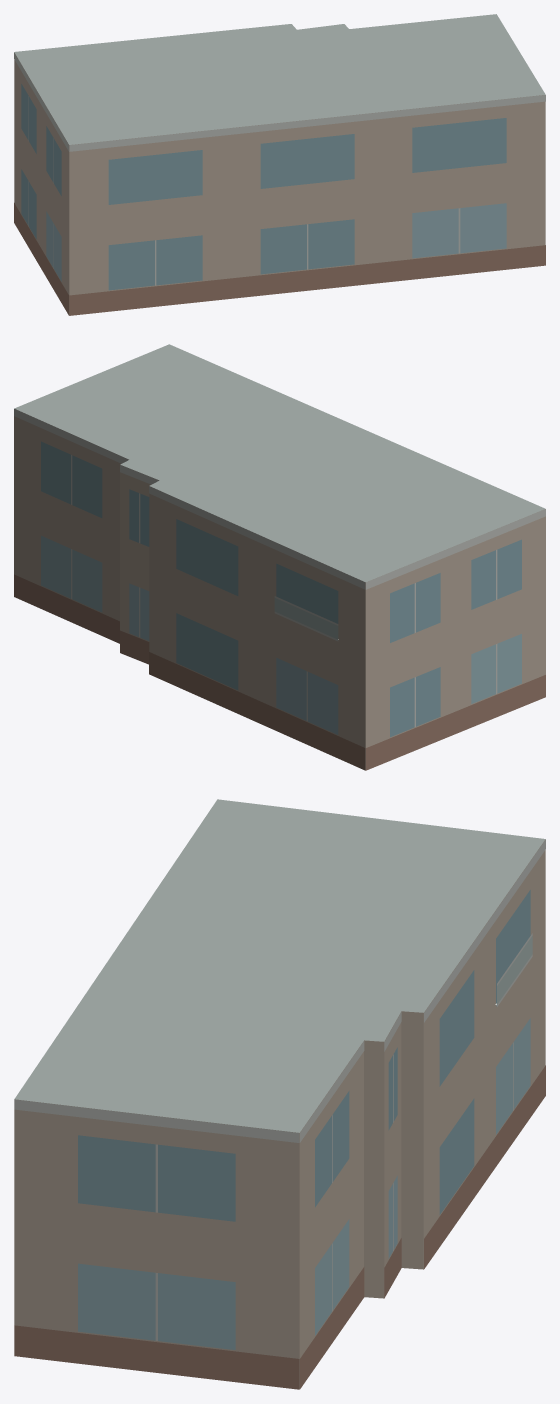
File: survey-upis-32577704.glb
3 views of the same model, one above another, from view 1: azimuth 30°, elevation 25°; view 2: azimuth 150°, elevation 25°; view 3: azimuth 270°, elevation 25° (orthographic). The views are drawn at different scales.
Visible parts, largest first — view 1: survey-upis-32577704.tmp; view 2: survey-upis-32577704.tmp; view 3: survey-upis-32577704.tmp.
Part boxes in pixels (x1,y1,x2,y2): survey-upis-32577704.tmp: [14, 14, 545, 315]; survey-upis-32577704.tmp: [14, 344, 545, 770]; survey-upis-32577704.tmp: [14, 799, 545, 1389].
Size of the model in its own units: 17.01 by 6.1 by 11.46.
